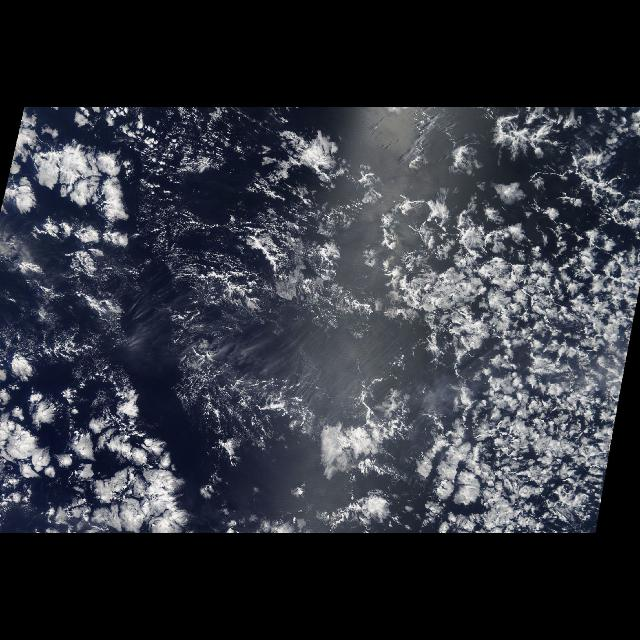Flower: (369, 191, 625, 533), (0, 352, 236, 534), (1, 142, 162, 278)
Sugar: (4, 274, 96, 346)
